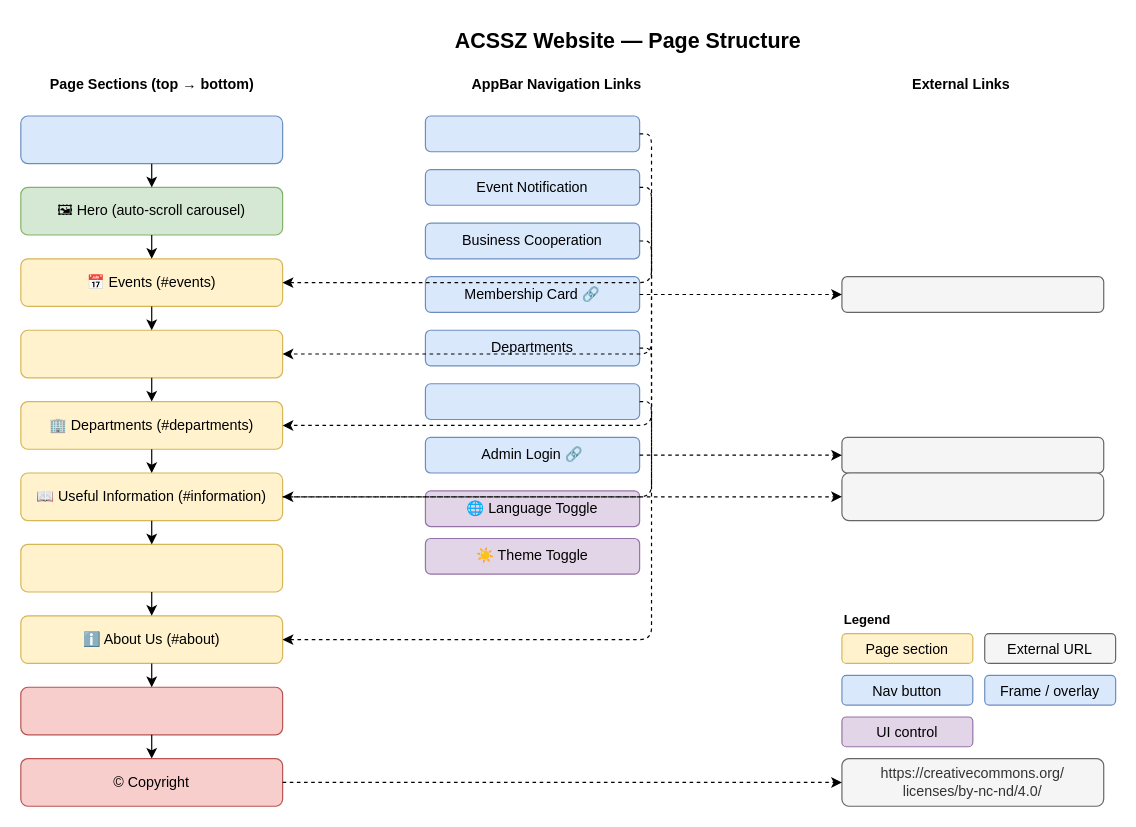
This 1136x827 diagram has some shape labels left out. The shapes that lost their labels are listed below. From the top down, each one's centre as x and y in pixels, then its label:
At [151,139]: "🔝 AppBar (sticky nav)".
At [532,133]: "Useful Information".
At [972,293]: "https://card.acssz.org/".
At [151,353]: "🤝 Our Cooperation Partners (#sponsors)".
At [532,401]: "About Us".
At [972,454]: "https://claim.acssz.org/".
At [972,496]: "https://guide.acssz.org/ (Manual iframe)".
At [151,567]: "❓ FAQ (#faq)".
At [151,710]: "📬 Contact Us (#footer)".
